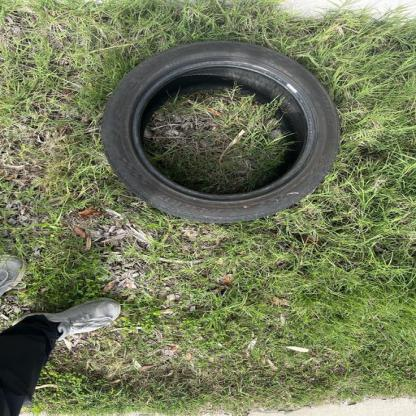Tire: (99, 40, 343, 224)
